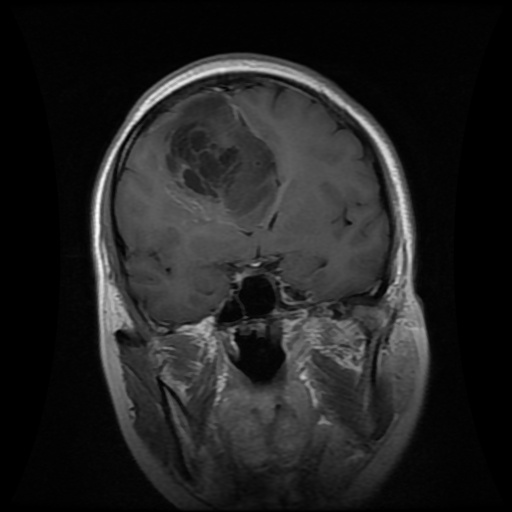glioma: (161, 93, 292, 229)
